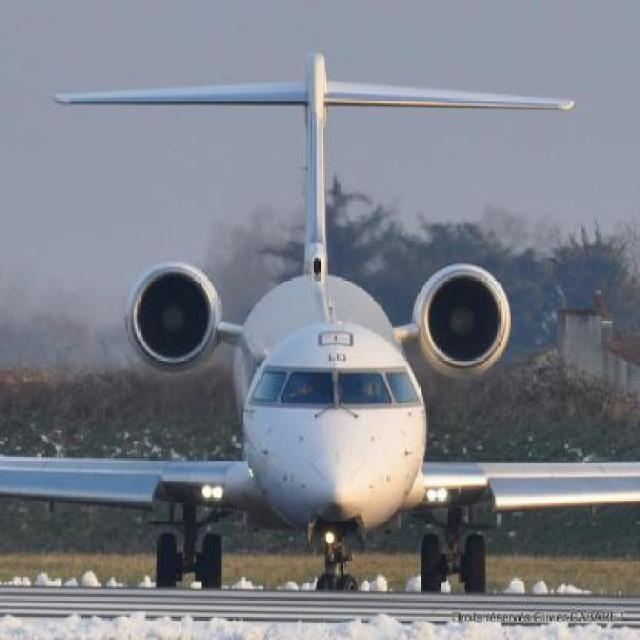Person: (288, 378, 310, 399), (361, 378, 376, 397)
